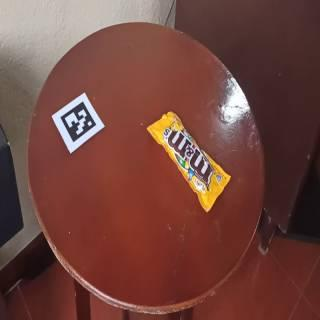chocolate: (151, 110, 232, 213)
